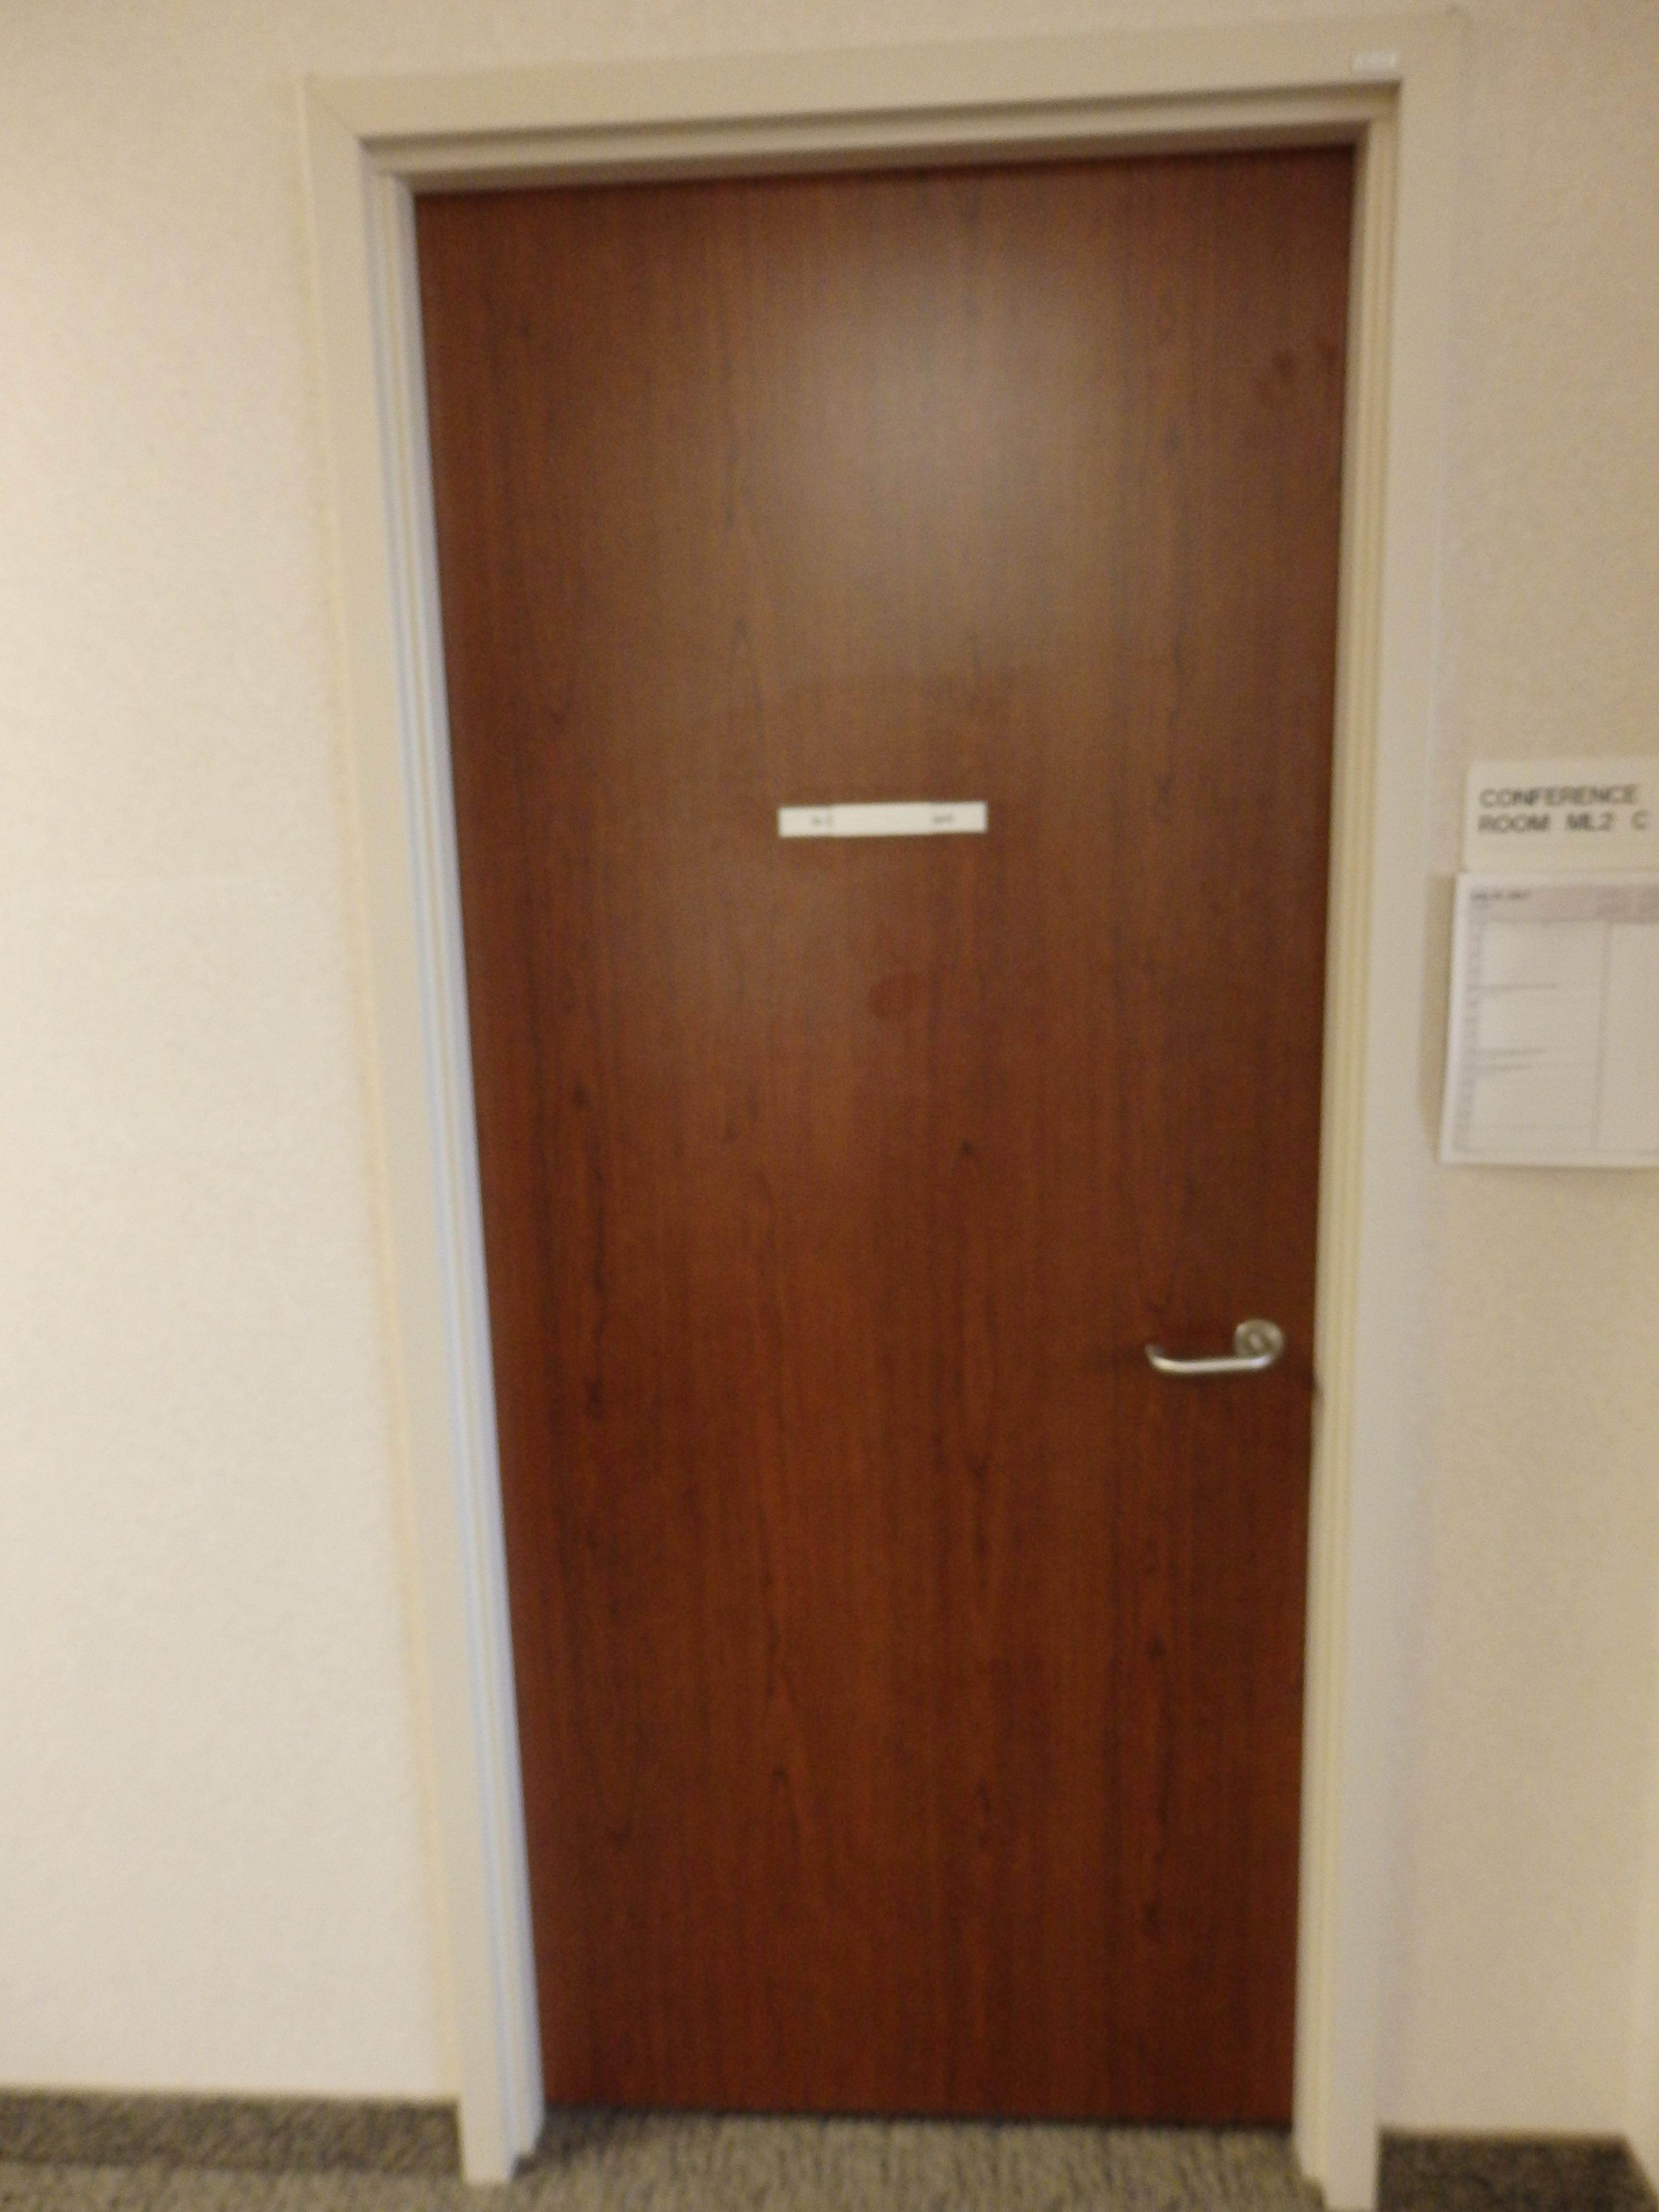door: (389, 96, 1401, 2127)
